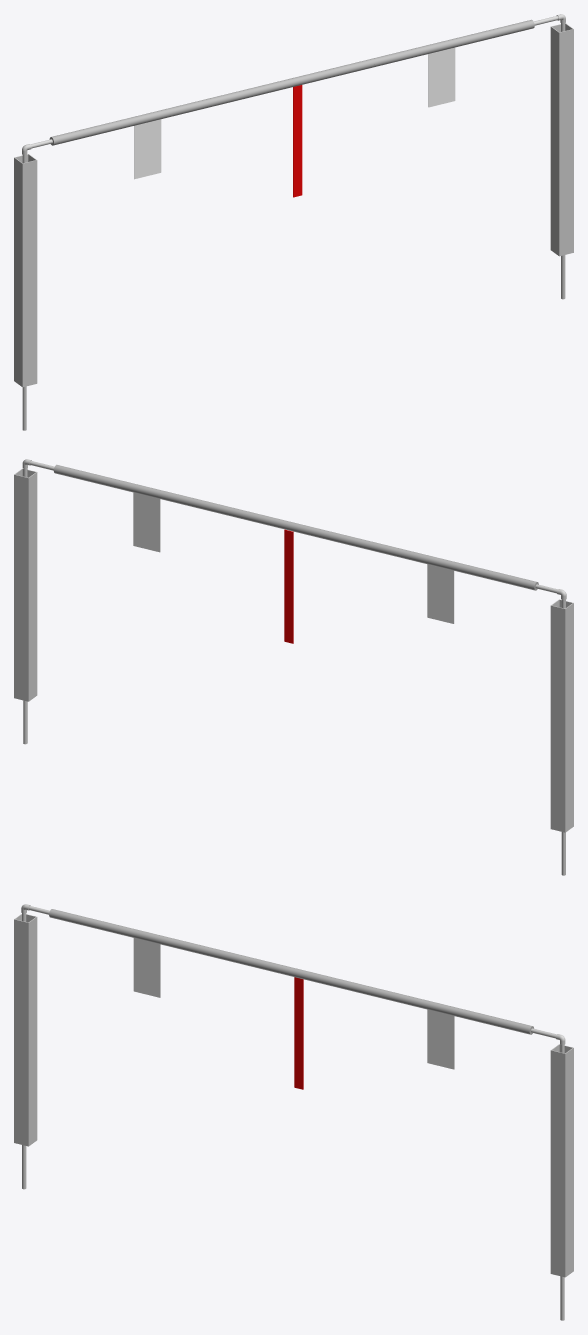
File: Gate.dae
The picture shows the model from 3 angles, top to bottom: view 1: azimuth 30°, elevation 25°; view 2: azimuth 150°, elevation 25°; view 3: azimuth 330°, elevation 25°; orthographic projection.
Visible parts, largest first — view 1: Body1 (×10); view 2: Body1 (×10); view 3: Body1 (×10).
Part boxes in pixels (x1,y1,x2,y2): Body1 (×10): (14, 19, 573, 387); Body1 (×10): (14, 464, 573, 832); Body1 (×10): (14, 909, 573, 1277).
Bounding box in the file's own units: 124 × 61.36 × 3.33.
